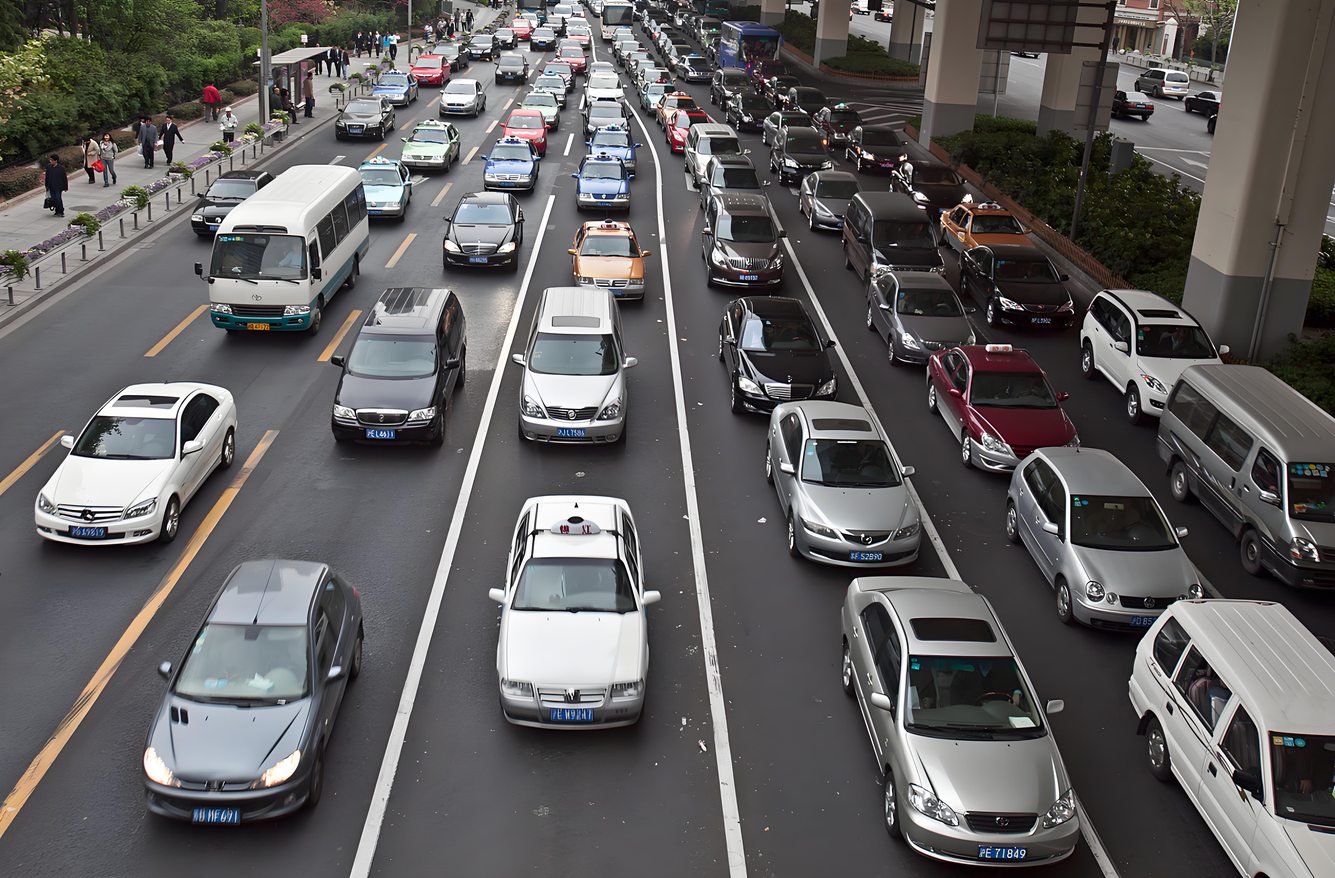car: (825, 566, 1071, 872), (1094, 567, 1335, 878), (126, 538, 342, 819), (1149, 327, 1326, 572), (492, 487, 655, 728), (32, 371, 250, 550), (1007, 448, 1210, 614), (190, 187, 411, 331), (758, 393, 936, 571), (920, 339, 1076, 485), (1080, 273, 1231, 414), (704, 295, 844, 422), (515, 311, 642, 444), (948, 241, 1091, 345), (331, 326, 460, 438), (858, 268, 988, 367), (836, 190, 936, 279), (693, 198, 788, 287), (444, 188, 523, 290), (938, 199, 1042, 262), (685, 126, 758, 203), (186, 166, 274, 229), (891, 153, 959, 232), (791, 170, 871, 237), (355, 147, 413, 225), (579, 106, 637, 179), (763, 69, 825, 137), (762, 126, 843, 178), (569, 152, 635, 212), (570, 214, 631, 277), (407, 110, 466, 173), (848, 122, 907, 182), (342, 95, 408, 147), (754, 93, 809, 147), (486, 147, 540, 199), (629, 62, 689, 107), (494, 103, 550, 147), (418, 53, 462, 105), (579, 75, 632, 114), (661, 95, 705, 141), (704, 67, 751, 107), (444, 79, 489, 117), (538, 57, 584, 93), (443, 73, 481, 114), (372, 68, 415, 102), (532, 70, 570, 107), (489, 53, 531, 86), (634, 49, 670, 85)
